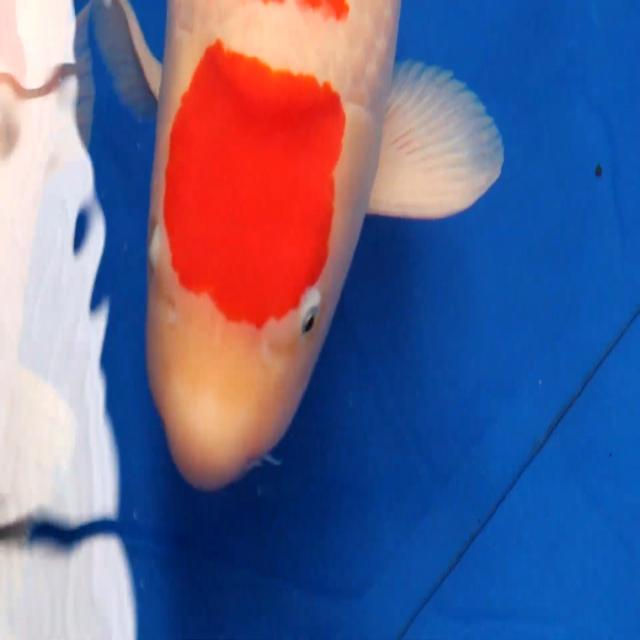Kohaku: (85, 0, 505, 492)
